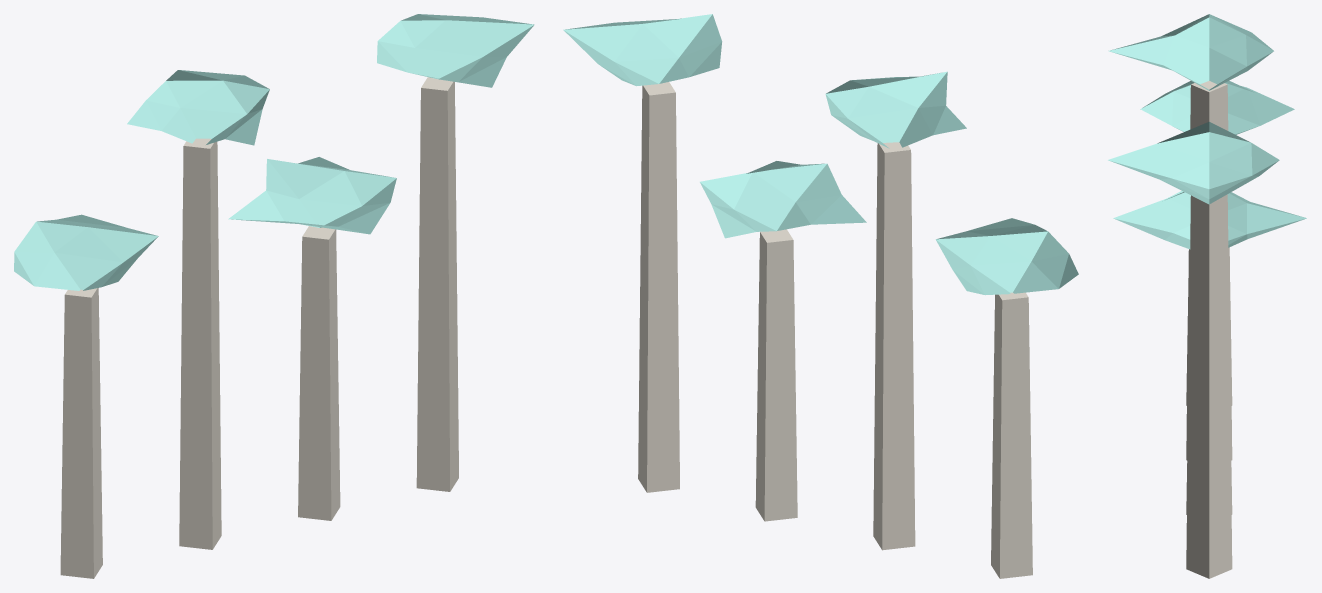
File: glowcap_v11.glb
The picture shows the model from 3 angles, left to right: view 1: azimuth 30°, elevation 25°; view 2: azimuth 150°, elevation 25°; view 3: azimuth 270°, elevation 25°; orthographic projection. The views are drawn at different scales.
Parts seen in each view (by area): view 1: lod0; view 2: lod0; view 3: lod0.
Part boxes in pixels (x1=…): lod0: x1=14, y1=14, x2=534, y2=578; lod0: x1=563, y1=14, x2=1078, y2=578; lod0: x1=1108, y1=14, x2=1306, y2=578.
Size of what is drawn, in the model's own units: 0.6141 by 0.5281 by 0.2173.
